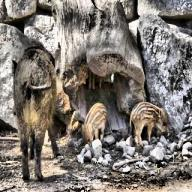boar: (128, 100, 169, 148), (81, 102, 107, 146)
